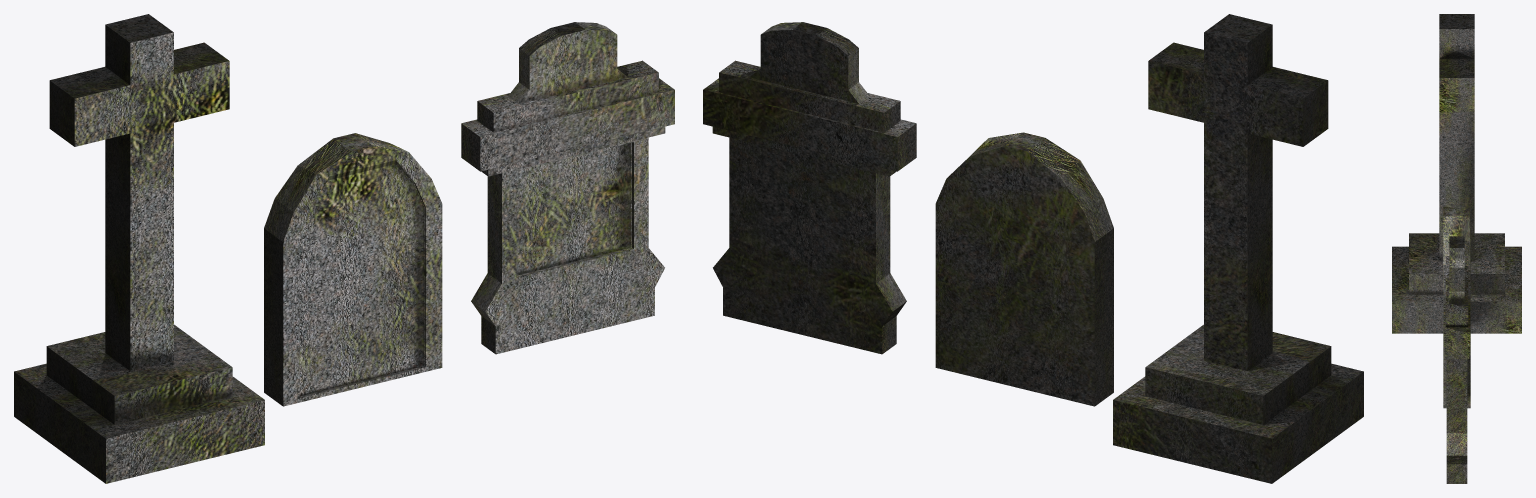
The model's file is simple_tombs.glb.
The picture shows the model from 3 angles, left to right: view 1: azimuth 30°, elevation 25°; view 2: azimuth 150°, elevation 25°; view 3: azimuth 270°, elevation 25°; orthographic projection. The views are drawn at different scales.
Visible parts, largest first — view 1: tombs; view 2: tombs; view 3: tombs.
Boxes of the visible parts, bbox=[...] form: tombs: bbox=[14, 14, 674, 483]; tombs: bbox=[703, 14, 1363, 483]; tombs: bbox=[1392, 14, 1521, 483].
Size of the model in its own units: 6.22 by 3.99 by 1.64.
1 material, 1 textured.
